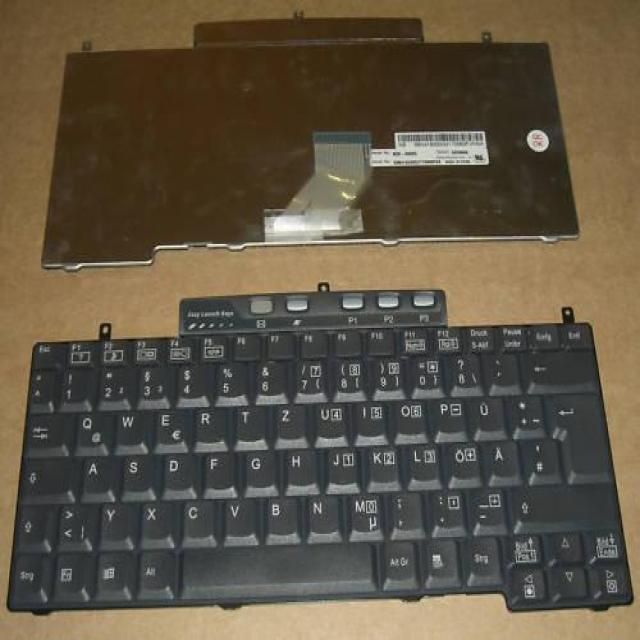0: (406, 354, 440, 392)
1: (59, 367, 91, 404)
2: (96, 365, 132, 403)
3: (134, 363, 168, 401)
4: (174, 361, 205, 398)
5: (211, 356, 245, 396)
6: (248, 356, 283, 396)
7: (292, 356, 324, 396)
8: (332, 354, 360, 395)
9: (371, 355, 401, 393)
a: (79, 452, 114, 495)
accent: (481, 348, 515, 385)
ae: (480, 434, 516, 478)
alt-left: (135, 545, 172, 594)
altgr-right: (376, 535, 412, 583)
b: (261, 491, 295, 534)
c: (178, 493, 210, 537)
caret: (26, 368, 51, 409)
comma: (385, 486, 419, 531)
d: (159, 449, 192, 490)
del: (518, 345, 594, 388)
e: (152, 404, 188, 448)
enter: (540, 388, 606, 475)
f: (200, 447, 230, 486)
g: (238, 445, 271, 486)
h: (279, 444, 314, 487)
hash: (519, 434, 556, 478)
i: (352, 398, 384, 439)
j: (322, 444, 356, 487)
k: (362, 440, 397, 485)
keyboard: (4, 314, 635, 618)
l: (403, 439, 437, 482)
less: (54, 499, 90, 547)
m: (344, 488, 379, 535)
minus: (466, 482, 502, 528)
n: (301, 490, 337, 533)
o: (390, 395, 424, 434)
oe: (442, 436, 478, 482)
p: (429, 394, 463, 431)
plus: (504, 390, 540, 433)
point: (429, 485, 462, 531)
q: (72, 409, 109, 448)
r: (191, 403, 224, 444)
s: (118, 450, 154, 493)
shift-left: (13, 499, 49, 548)
shift-lock: (16, 451, 76, 499)
shift-right: (507, 478, 613, 526)
space: (178, 537, 370, 589)
ss: (444, 350, 478, 390)
strg-left: (7, 550, 44, 604)
strg-right: (459, 531, 498, 583)
t: (232, 402, 264, 439)
tab: (22, 407, 68, 453)
u: (310, 398, 346, 442)
ue: (466, 391, 500, 431)
v: (219, 493, 252, 534)
w: (113, 406, 146, 445)
x: (137, 496, 170, 539)
y: (96, 498, 132, 544)
z: (271, 399, 302, 439)
